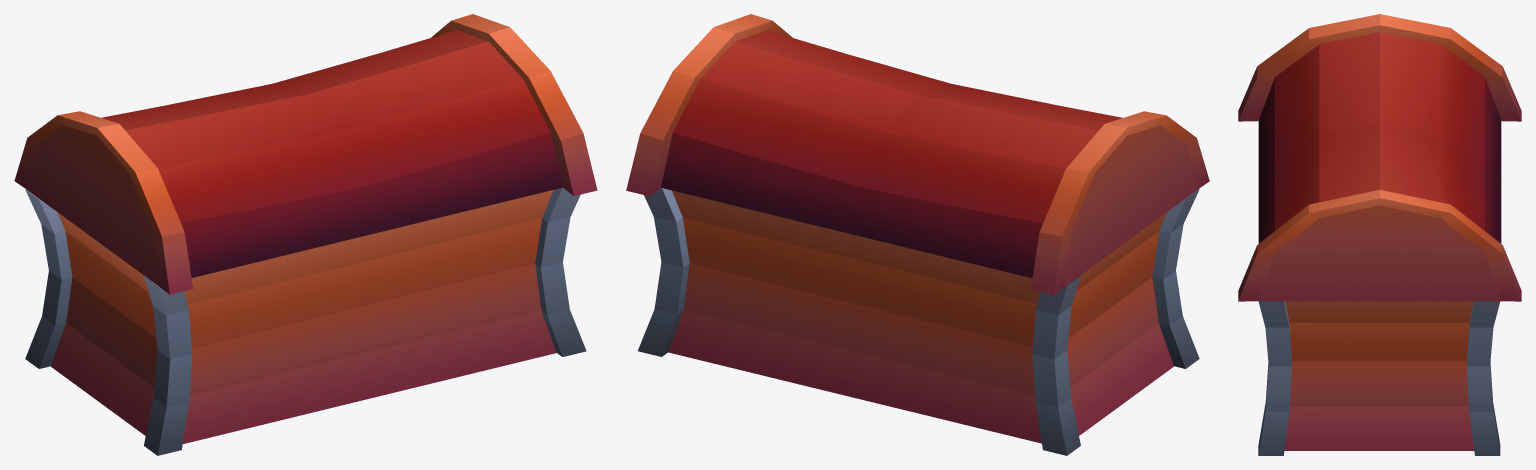
Rendered from House Body 4.fbx.
3 views of the same model, side by side, from view 1: azimuth 30°, elevation 25°; view 2: azimuth 150°, elevation 25°; view 3: azimuth 270°, elevation 25° (orthographic). The views are drawn at different scales.
Parts seen in each view (by area): view 1: House Body 4; view 2: House Body 4; view 3: House Body 4.
Part boxes in pixels (x1=…): House Body 4: x1=14, y1=14, x2=597, y2=455; House Body 4: x1=626, y1=14, x2=1209, y2=455; House Body 4: x1=1238, y1=14, x2=1521, y2=455.
Size of the model in its own units: 856 by 531 by 537.
